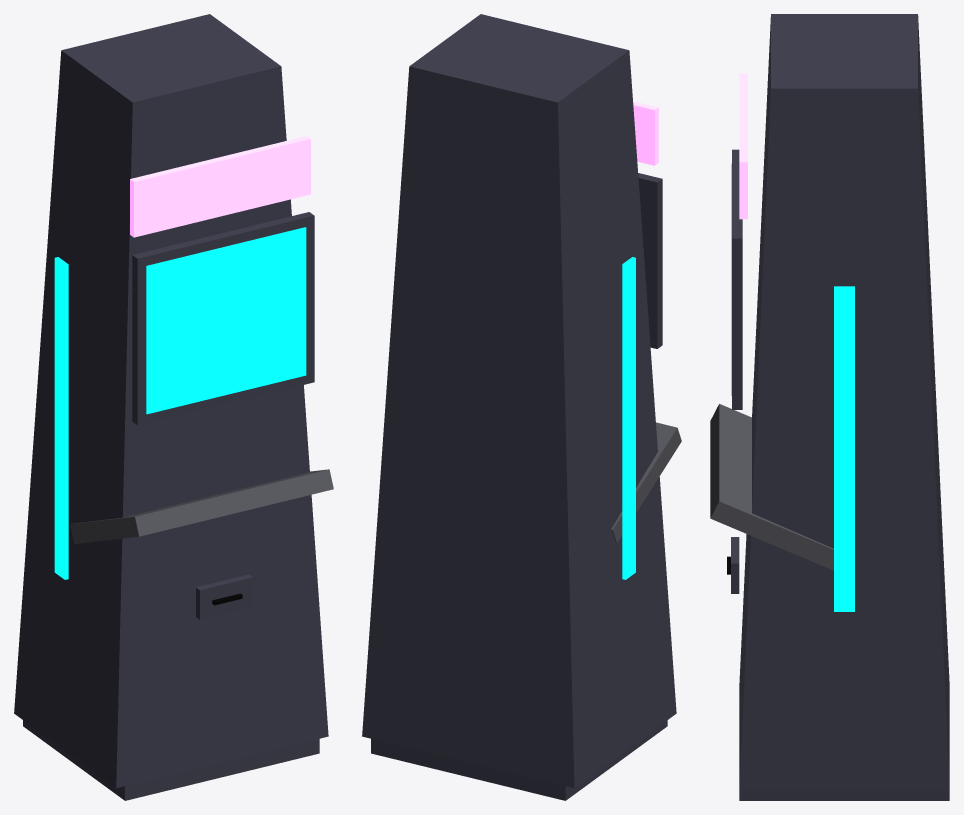
The model's file is arcade_cabinet.glb.
The picture shows the model from 3 angles, left to right: view 1: azimuth 30°, elevation 25°; view 2: azimuth 150°, elevation 25°; view 3: azimuth 270°, elevation 25°; orthographic projection. The views are drawn at different scales.
Visible parts, largest first — view 1: CabinetBody, Screen, Marquee, ScreenBezel, ControlPanel, NeonStrip_-1, Base, CoinSlot; view 2: CabinetBody, NeonStrip_-1, Base, ScreenBezel, ControlPanel, Marquee; view 3: CabinetBody, NeonStrip_1, ControlPanel, ScreenBezel, Base, Marquee, CoinSlot.
Boxes of the visible parts, x1,y1,x2,y2 form: CabinetBody: (14, 14, 328, 788); Screen: (146, 227, 306, 414); Marquee: (130, 136, 310, 237); ScreenBezel: (132, 212, 314, 425); ControlPanel: (70, 469, 333, 543); NeonStrip_-1: (54, 257, 68, 579); Base: (23, 720, 319, 800); CoinSlot: (196, 574, 252, 619); CabinetBody: (362, 14, 676, 788); NeonStrip_-1: (622, 257, 635, 579); Base: (371, 720, 667, 800); ScreenBezel: (638, 173, 662, 348); ControlPanel: (611, 422, 681, 543); Marquee: (633, 101, 658, 165); CabinetBody: (739, 14, 949, 790); NeonStrip_1: (834, 286, 854, 611); ControlPanel: (710, 404, 833, 570); ScreenBezel: (732, 149, 742, 409); Base: (739, 790, 949, 800); Marquee: (739, 73, 747, 219); CoinSlot: (731, 537, 739, 593).
Bounding box in the file's own units: 0.63 × 1.84 × 0.5692.
